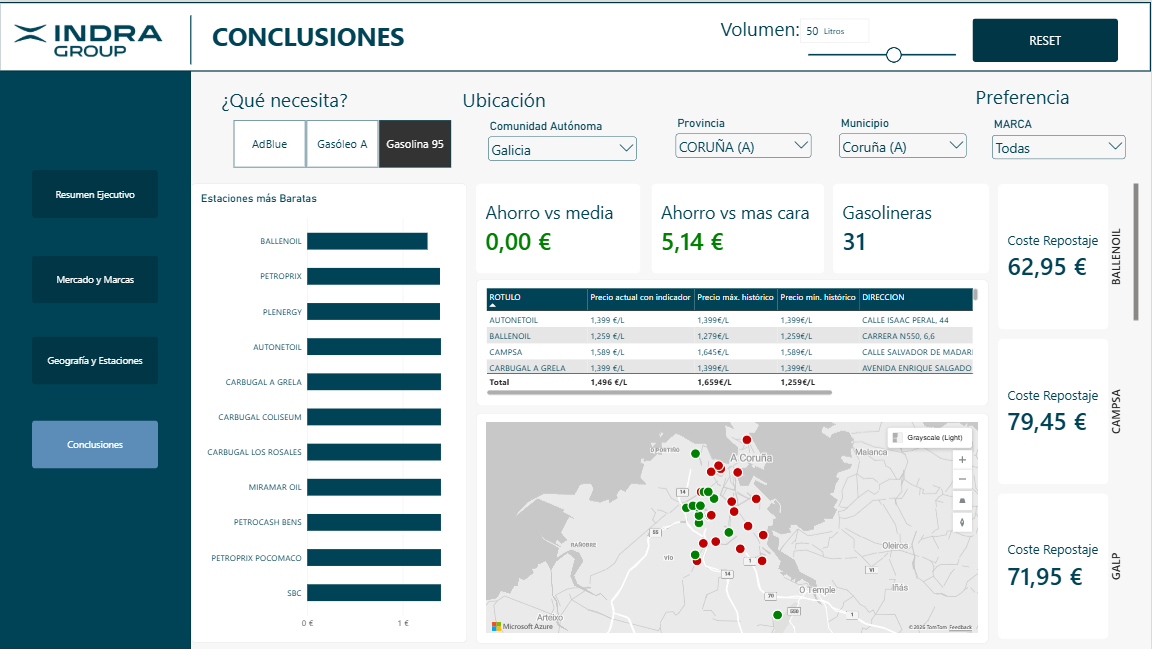

This screenshot's page, from the dashboard's own definition file:
{"tool":"powerbi","page":{"name":"Conclusiones","canvas":[1920,1080],"ordinal":3},"visuals":[{"type":"shape","box":[0,0,1920,116],"z":0},{"type":"image","box":[25.7,11.4,247.1,104.3],"z":1000},{"type":"shape","box":[232.9,22.9,174.3,81.4],"z":2000},{"type":"textbox","box":[355,27.5,732.5,85],"z":3000},{"type":"slicer","fields":{"Values":["DIM_PRODUCT.PRODUCT_NAME"]},"box":[370,195,402.5,82.5],"z":4000},{"type":"shape","box":[0,116,320,964],"z":5000},{"type":"slicer","fields":{"Values":["DIM_STATION.CCAA"]},"box":[810,195,257.5,80],"z":6000},{"type":"actionButton","box":[55,280,210,80],"z":7000},{"type":"actionButton","box":[55,423.3,210,80],"z":8000},{"type":"actionButton","box":[55,557.5,210,80],"z":9000},{"type":"actionButton","box":[55,698.3,210,80],"z":10000},{"type":"textbox","box":[369.2,140,375,55],"z":11000},{"type":"textbox","box":[772.2,140,170.4,55.7],"z":12000},{"type":"slicer","fields":{"Values":["DIM_STATION.PROVINCIA"]},"box":[1122.3,191,236.2,80],"z":13000},{"type":"slicer","fields":{"Values":["DIM_STATION.MUNICIPIO"]},"box":[1396.1,191,222.5,80],"z":14000},{"type":"textbox","box":[1626.7,135.5,222.5,55],"z":15000},{"type":"slicer","fields":{"Values":["DIM_STATION.MARCA"]},"box":[1650,191.7,232.5,80],"z":16000},{"type":"actionButton","box":[1622.5,27.5,242.5,72.5],"z":17000},{"type":"textbox","box":[1201.2,22.5,222.5,55],"z":18000},{"type":"slicer","fields":{"Values":["Litros a repostar.Litros a repostar"]},"box":[1328,22,286,122],"z":19000,"group":"g1"},{"type":"cardVisual","fields":{"Data":["Medidas.Coste Repostaje"],"Rows":["DIM_STATION.MARCA"]},"box":[1664,302,234,768],"z":19000},{"type":"textbox","box":[1376.1,38,46.9,24.4],"z":20000,"group":"g1"},{"type":"cardVisual","fields":{"Data":["Medidas.Estaciones"]},"box":[1390,302.5,260,150],"z":20000},{"type":"clusteredBarChart","title":"Estaciones más Baratas","fields":{"Category":["DIM_STATION.ROTULO"],"Y":["Medidas.Precio actual"]},"box":[320,302.5,460,765],"z":21000},{"type":"cardVisual","fields":{"Data":["Medidas.Ahorro vs mas cara"]},"box":[1088,302,288,150],"z":22000},{"type":"azureMap","fields":{"X":["DIM_STATION.LONGITUD"],"Y":["DIM_STATION.LATITUD"]},"box":[796,686,854,384],"z":23000},{"type":"tableEx","fields":{"Values":["DIM_STATION.ROTULO","Medidas.Precio actual con indicador","Medidas.Precio máx. histórico","Medidas.Precio mín. histórico","DIM_STATION.DIRECCION"]},"box":[796,462,854,210],"z":24000},{"type":"group","id":"g1","title":"Grupo 1","box":[1328,22,286,122],"z":25000},{"type":"cardVisual","fields":{"Data":["Medidas.Ahorro vs media"]},"box":[794,302,274,150],"z":26000}]}

Visuals, with their boxes on the page's 1920x1080 design canvas (x1, y1, x2, y2). These are canvas units, not pixel positions in the 1152x649 screenshot, which may show the page scaled, cropped or inside an application window:
shape: locate(0, 0, 1920, 116)
image: locate(26, 11, 273, 116)
shape: locate(233, 23, 407, 104)
textbox: locate(355, 28, 1088, 112)
slicer - DIM_PRODUCT.PRODUCT_NAME: locate(370, 195, 772, 278)
shape: locate(0, 116, 320, 1080)
slicer - DIM_STATION.CCAA: locate(810, 195, 1068, 275)
actionButton: locate(55, 280, 265, 360)
actionButton: locate(55, 423, 265, 503)
actionButton: locate(55, 558, 265, 638)
actionButton: locate(55, 698, 265, 778)
textbox: locate(369, 140, 744, 195)
textbox: locate(772, 140, 943, 196)
slicer - DIM_STATION.PROVINCIA: locate(1122, 191, 1358, 271)
slicer - DIM_STATION.MUNICIPIO: locate(1396, 191, 1619, 271)
textbox: locate(1627, 136, 1849, 190)
slicer - DIM_STATION.MARCA: locate(1650, 192, 1882, 272)
actionButton: locate(1622, 28, 1865, 100)
textbox: locate(1201, 22, 1424, 78)
slicer - Litros a repostar.Litros a repostar: locate(1328, 22, 1614, 144)
cardVisual - Medidas.Coste Repostaje x DIM_STATION.MARCA: locate(1664, 302, 1898, 1070)
textbox: locate(1376, 38, 1423, 62)
cardVisual - Medidas.Estaciones: locate(1390, 302, 1650, 452)
"Estaciones más Baratas" clusteredBarChart: locate(320, 302, 780, 1068)
cardVisual - Medidas.Ahorro vs mas cara: locate(1088, 302, 1376, 452)
azureMap - DIM_STATION.LONGITUD x DIM_STATION.LATITUD: locate(796, 686, 1650, 1070)
tableEx - DIM_STATION.ROTULO x Medidas.Precio actual con indicador: locate(796, 462, 1650, 672)
"Grupo 1" group: locate(1328, 22, 1614, 144)
cardVisual - Medidas.Ahorro vs media: locate(794, 302, 1068, 452)
